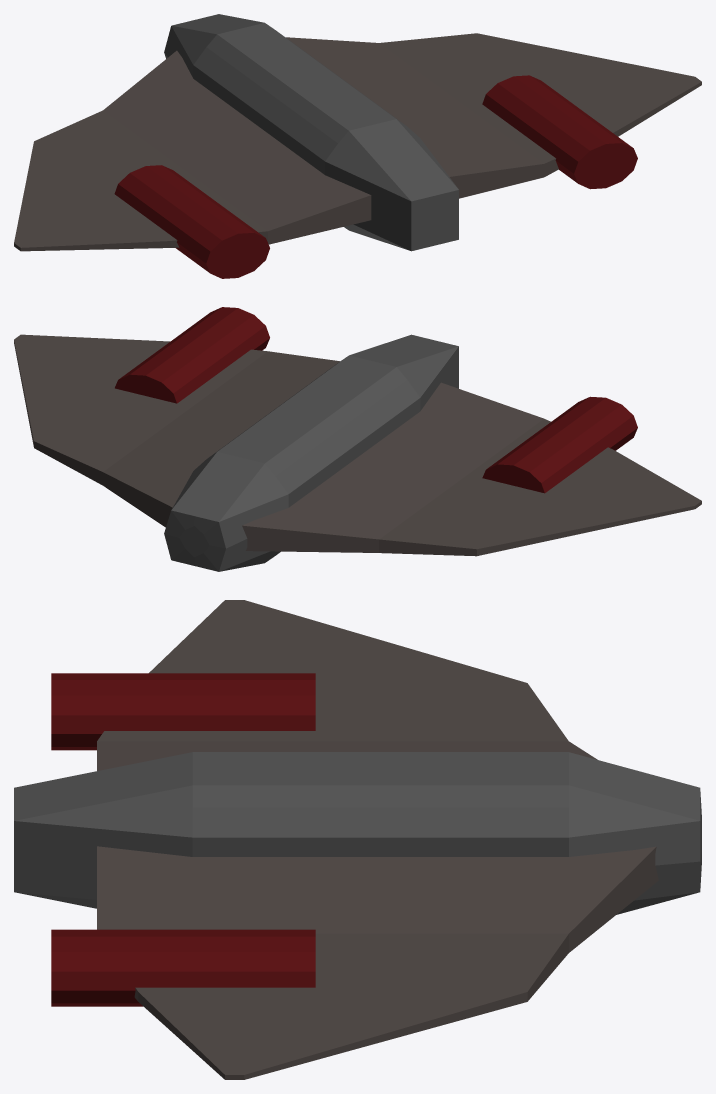
Rendered from ship.glb.
The picture shows the model from 3 angles, top to bottom: view 1: azimuth 30°, elevation 25°; view 2: azimuth 150°, elevation 25°; view 3: azimuth 270°, elevation 25°; orthographic projection. The views are drawn at different scales.
Visible parts, largest first — view 1: Cube, Cube.001, Cylinder; view 2: Cube, Cube.001, Cylinder; view 3: Cube, Cube.001, Cylinder.
Boxes of the visible parts, <box> form: Cube: <box>14,33,701,251</box>; Cube.001: <box>164,14,458,251</box>; Cylinder: <box>114,75,637,278</box>; Cube: <box>14,334,701,556</box>; Cube.001: <box>164,334,458,571</box>; Cylinder: <box>115,307,637,493</box>; Cube: <box>97,600,658,1079</box>; Cube.001: <box>14,752,701,914</box>; Cylinder: <box>51,673,315,1006</box>.
Size of the model in its own units: 5.72 by 0.8 by 3.5.
